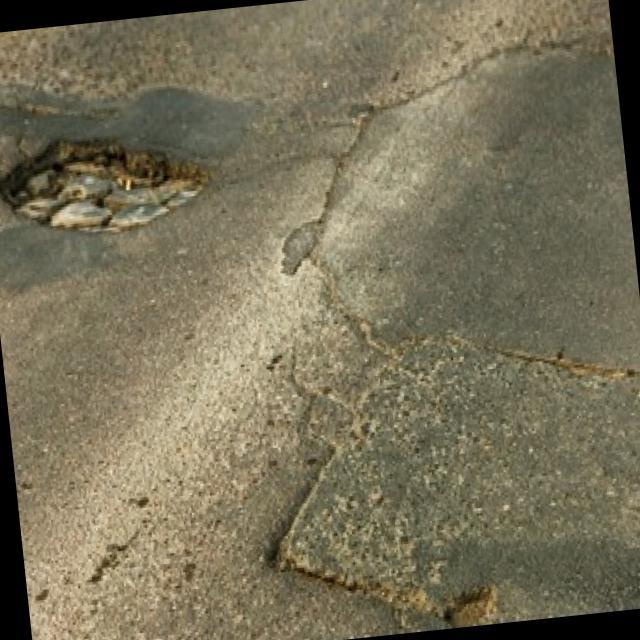Pothole: (0, 119, 207, 249)
